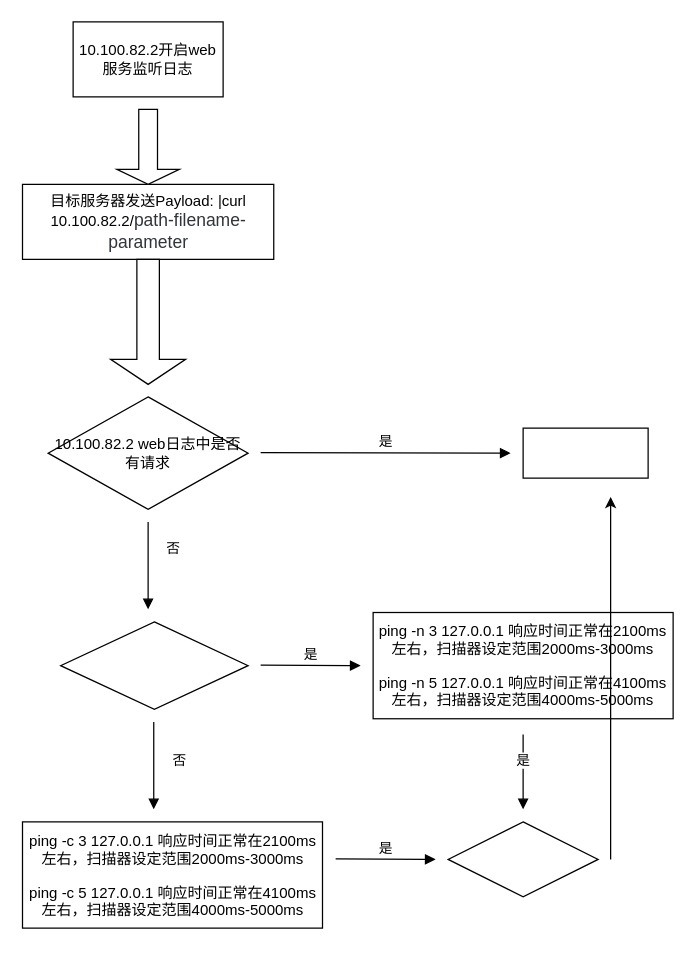
Some shapes in this 695 by 955 pixel diagram are drawn without their labels. The shapes that lost their labels are listed below. From the top down, each one's box as (x1, y1, x2, y2) in pixels, then its label:
(522, 427, 648, 478): 判断为漏洞
(59, 621, 248, 709): 使用telnet ip 22判断 目标是否为Linux
(447, 821, 598, 897): 响应时间匹配
